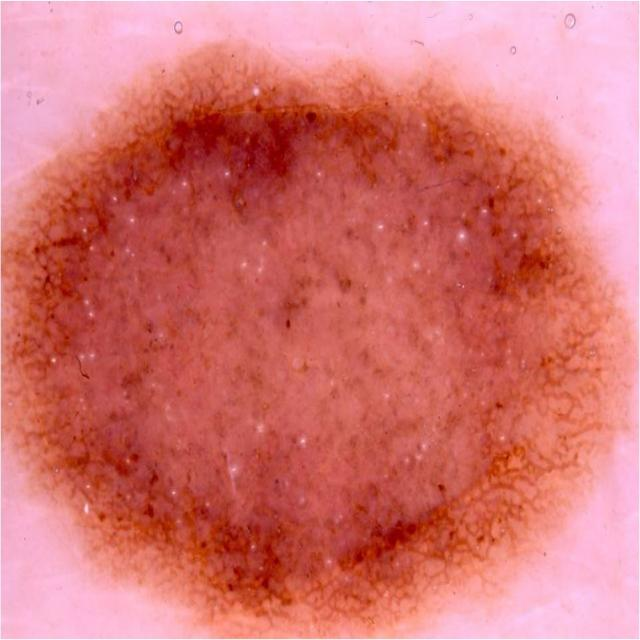Benign: (1, 30, 628, 633)
